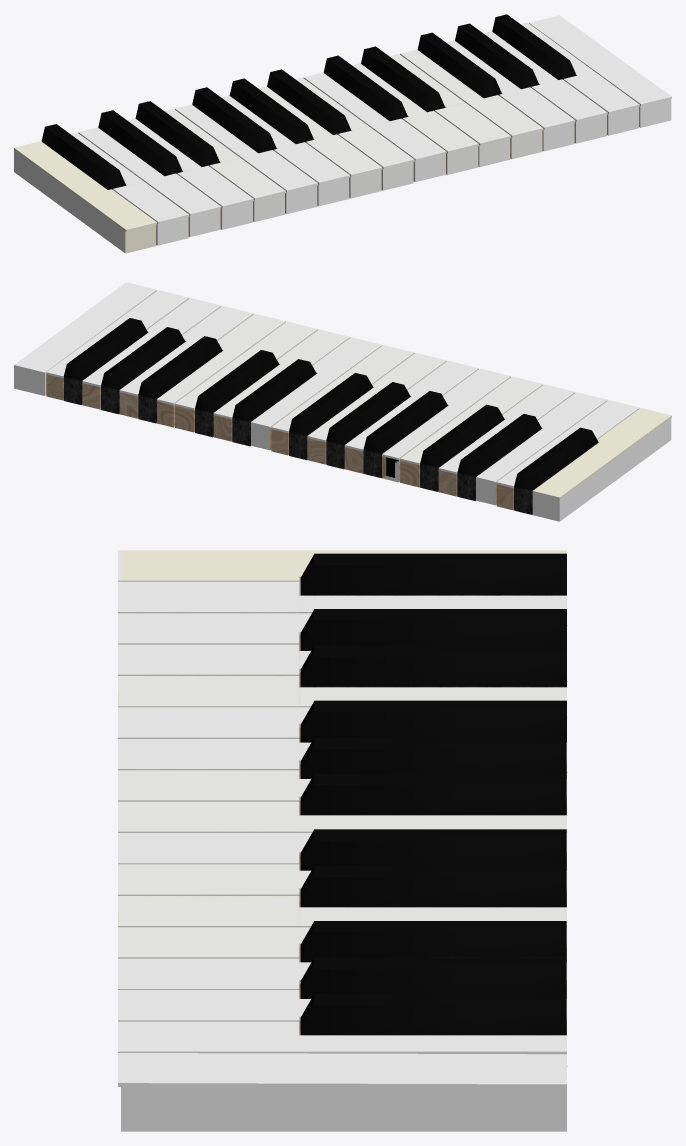
File: Keyboard.glb
3 views of the same model, one above another, from view 1: azimuth 30°, elevation 25°; view 2: azimuth 150°, elevation 25°; view 3: azimuth 270°, elevation 25° (orthographic). The views are drawn at different scales.
Parts seen in each view (by area): view 1: A.000, C.000, C, C.001, F, F.001, E, E.001, A, D, G, A.001 (+16 smaller); view 2: A.000, C.000, C.001, C, F.001, F, A#, A#.000, C#.001, D#.001, F#.001, A#.001 (+16 smaller); view 3: C.000, D#.001, D#, A#.000, A#, A#.001, B, F#.001, B.001, B.000, F#, C#.001 (+16 smaller).
Boxes of the visible parts, bbox=[...] form: A.000: bbox=[14, 141, 156, 253]; C.000: bbox=[529, 15, 671, 127]; C: bbox=[303, 72, 446, 182]; C.001: bbox=[78, 127, 221, 236]; F: bbox=[400, 49, 543, 159]; F.001: bbox=[175, 104, 317, 214]; E: bbox=[389, 54, 510, 167]; E.001: bbox=[164, 109, 285, 221]; A: bbox=[483, 31, 607, 143]; D: bbox=[352, 63, 478, 174]; G: bbox=[446, 40, 575, 151]; A.001: bbox=[258, 86, 382, 198]; A.000: bbox=[532, 408, 671, 521]; C.000: bbox=[14, 282, 156, 395]; C.001: bbox=[476, 392, 607, 505]; C: bbox=[251, 337, 382, 450]; F.001: bbox=[382, 368, 510, 482]; F: bbox=[157, 313, 285, 427]; A#: bbox=[63, 318, 147, 405]; A#.000: bbox=[514, 427, 598, 514]; C#.001: bbox=[457, 414, 541, 501]; D#.001: bbox=[420, 404, 504, 491]; F#.001: bbox=[363, 391, 447, 478]; A#.001: bbox=[289, 373, 373, 460]; C.000: bbox=[118, 1053, 566, 1131]; D#.001: bbox=[300, 645, 566, 687]; D#: bbox=[300, 865, 566, 907]; A#.000: bbox=[300, 553, 567, 625]; A#: bbox=[300, 994, 567, 1066]; A#.001: bbox=[300, 774, 566, 815]; B: bbox=[118, 1021, 566, 1054]; F#.001: bbox=[300, 700, 567, 772]; B.001: bbox=[118, 801, 566, 832]; B.000: bbox=[118, 581, 566, 613]; F#: bbox=[300, 921, 566, 962]; C#.001: bbox=[300, 609, 567, 681].
Size of the model in its own units: 424 by 28.21 by 151.
Materials: 19 (16 with a texture image).
